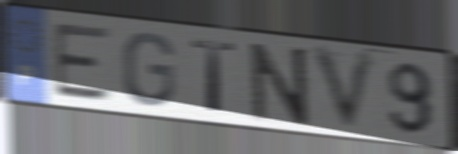9: (385, 59, 436, 137)
E: (51, 22, 116, 104)
G: (121, 30, 178, 109)
N: (247, 40, 312, 127)
T: (188, 37, 240, 116)
V: (308, 43, 381, 137)
